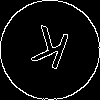K: (25, 25, 72, 79)
